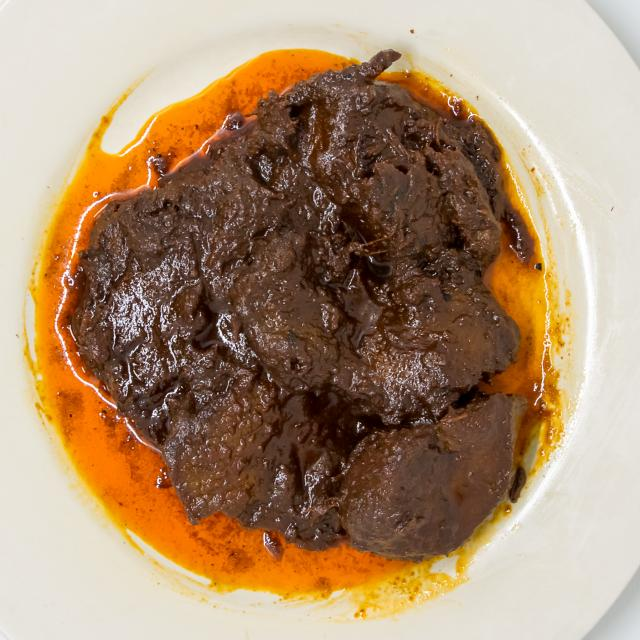Rendang: (54, 39, 553, 562)
